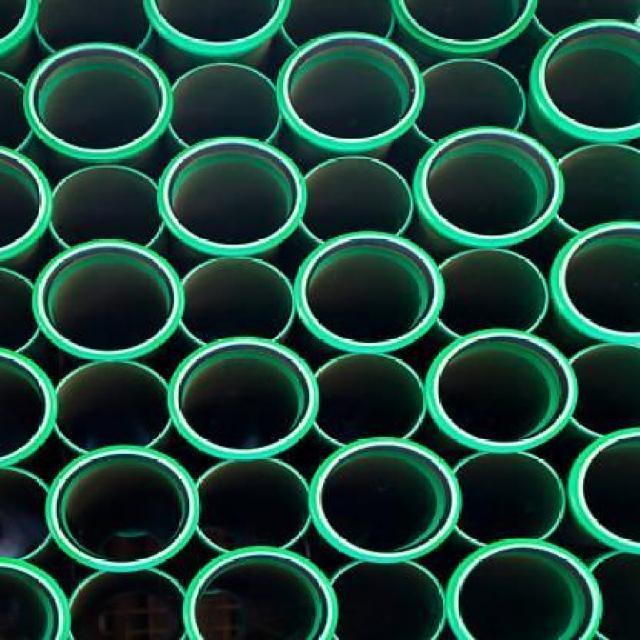pipe: (45, 445, 201, 573), (308, 435, 462, 563), (425, 328, 579, 453), (166, 337, 319, 459), (32, 240, 185, 360), (412, 126, 563, 246), (25, 42, 173, 161), (157, 137, 306, 254), (297, 231, 443, 350), (277, 33, 423, 150), (446, 538, 602, 640), (182, 546, 339, 640), (531, 19, 640, 142), (549, 220, 640, 343), (54, 360, 173, 453), (194, 459, 311, 553), (452, 451, 565, 545), (312, 352, 426, 445), (180, 257, 296, 345), (297, 155, 412, 243), (434, 249, 548, 337), (49, 165, 166, 248), (328, 558, 446, 640), (169, 62, 282, 147), (412, 60, 526, 142), (569, 428, 640, 556), (68, 569, 187, 640), (390, 0, 539, 54), (142, 0, 291, 54), (2, 346, 59, 466), (569, 343, 640, 437), (33, 2, 153, 53), (0, 466, 54, 562)
